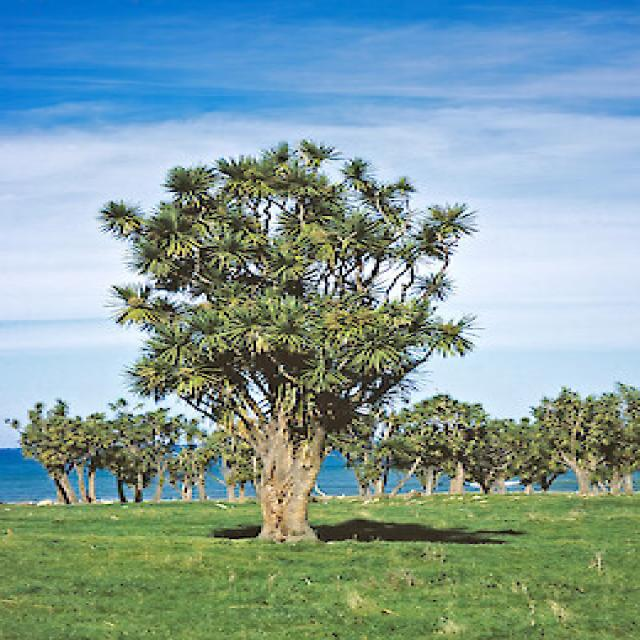Cordyline australis: (167, 152, 408, 541)
